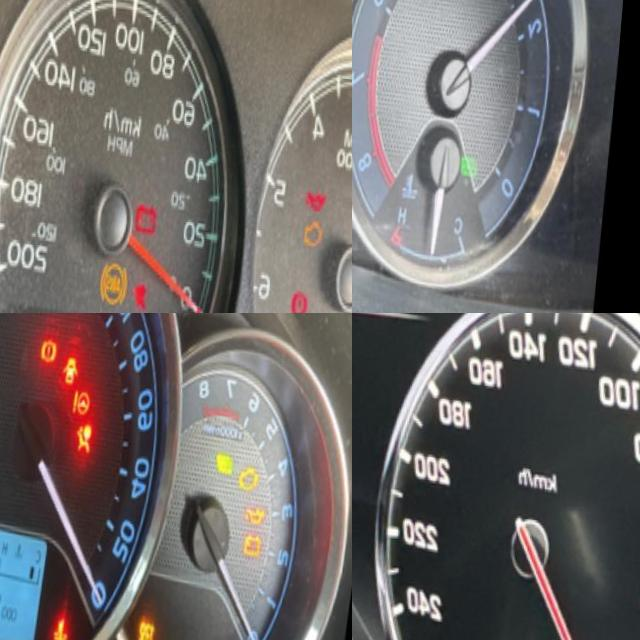Doors: (63, 343, 84, 382)
Engine cooling system: (58, 599, 80, 640)
